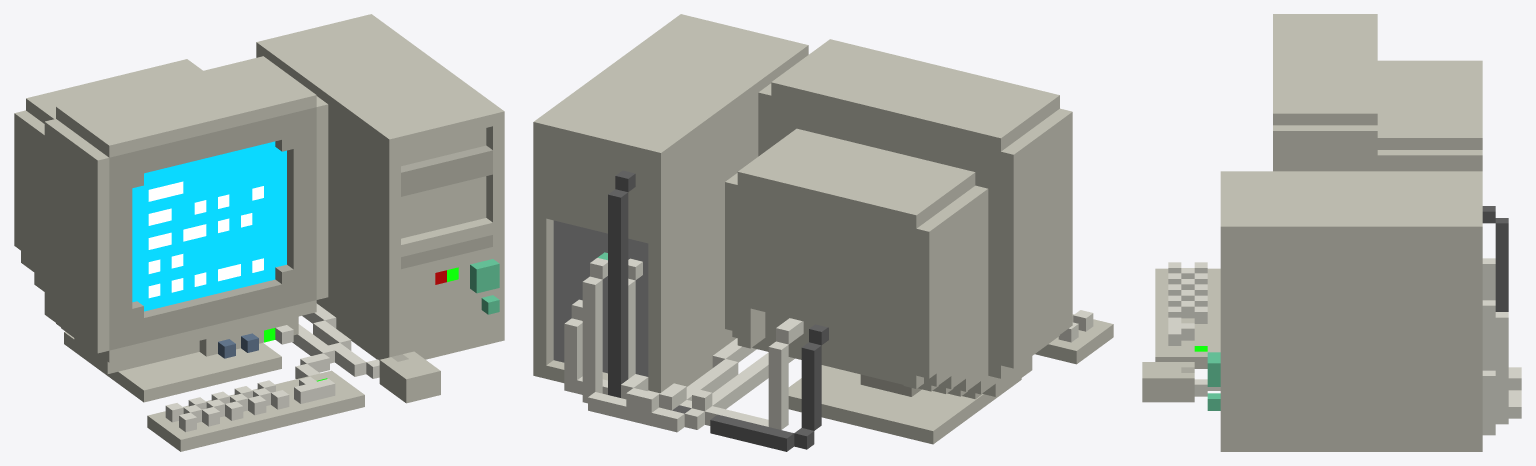
File: oldpc.gltf
3 renders of one model, left to right at view 1: azimuth 30°, elevation 25°; view 2: azimuth 150°, elevation 25°; view 3: azimuth 270°, elevation 25°, orthographic. The views are drawn at different scales.
Parts seen in each view (by area): view 1: VoxTransform; view 2: VoxTransform; view 3: VoxTransform.
Boxes of the visible parts, <box> form: VoxTransform: <box>14,14,504,451</box>; VoxTransform: <box>533,14,1113,451</box>; VoxTransform: <box>1142,14,1521,451</box>.
Bounding box in the file's own units: 33 × 22 × 29.
